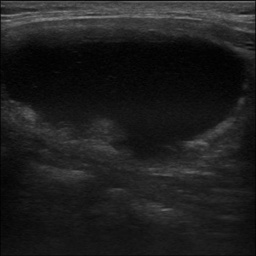mass: (5, 23, 251, 159)
